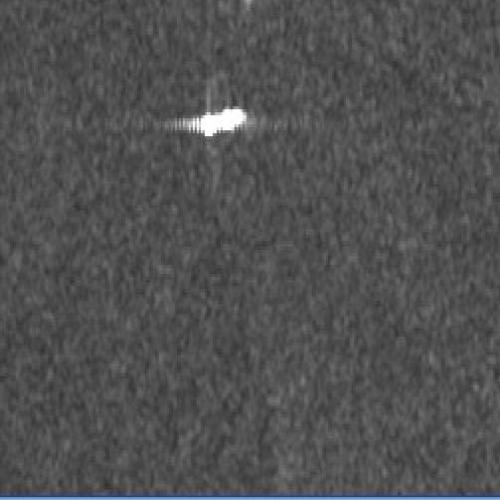ship: (191, 107, 247, 138)
